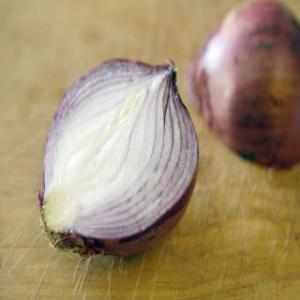onion: (38, 56, 202, 260)
